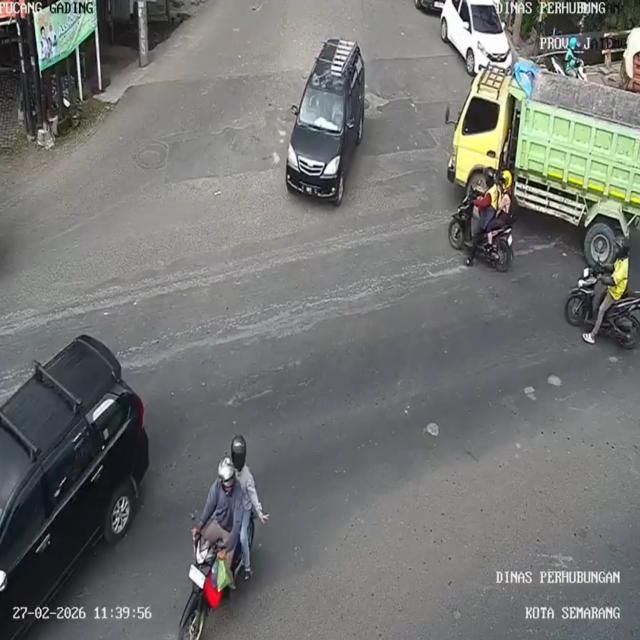motorcycle: (562, 270, 640, 350), (444, 208, 514, 263), (183, 538, 218, 640), (544, 56, 590, 84)
person: (231, 436, 270, 562), (201, 462, 244, 552), (467, 172, 498, 251), (600, 242, 632, 306), (493, 173, 520, 228), (562, 35, 580, 79)
rider_region: (177, 430, 268, 640), (560, 236, 640, 349), (442, 166, 522, 274)
